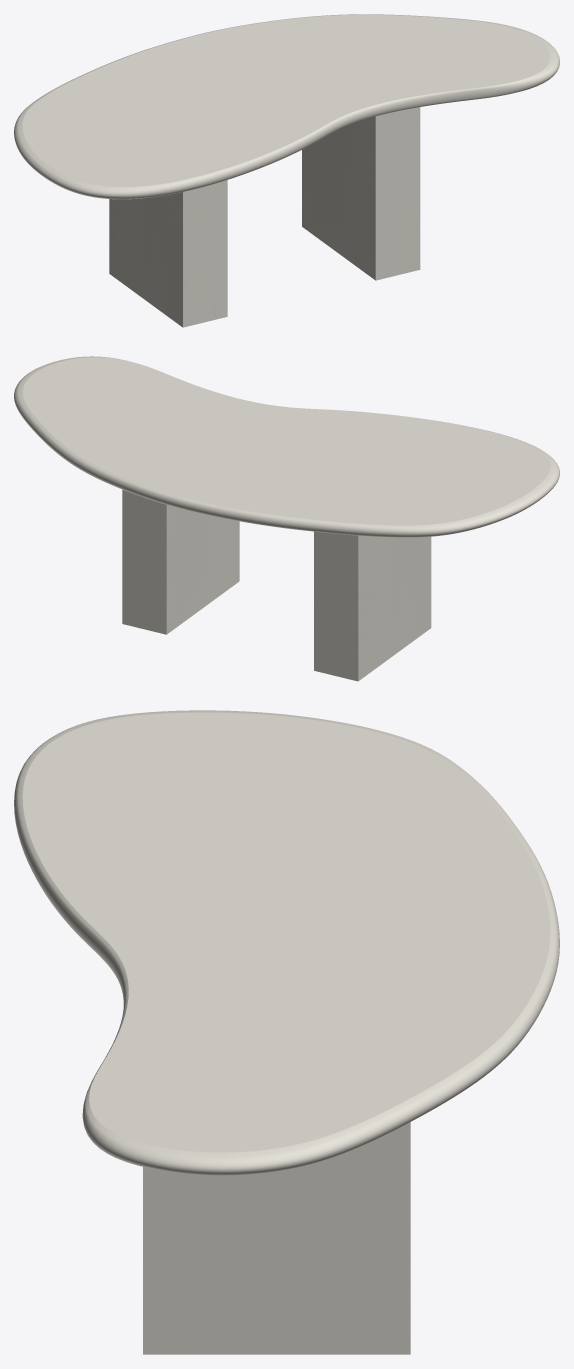
File: pale_leaf1_round_ridge.glb
3 renders of one model, top to bottom at view 1: azimuth 30°, elevation 25°; view 2: azimuth 150°, elevation 25°; view 3: azimuth 270°, elevation 25°, orthographic. The views are drawn at different scales.
Visible parts, largest first — view 1: round_leaf1, ridge; view 2: round_leaf1, ridge; view 3: round_leaf1, ridge.
Boxes of the visible parts, x1=… form: round_leaf1: x1=14, y1=14, x2=559, y2=199; ridge: x1=109, y1=107, x2=420, y2=327; round_leaf1: x1=14, y1=356, x2=559, y2=537; ridge: x1=122, y1=489, x2=431, y2=681; round_leaf1: x1=14, y1=710, x2=559, y2=1175; ridge: x1=143, y1=1122, x2=410, y2=1354.
Bounding box in the file's own units: 7.5 × 2.51 × 3.8.
1 material, 1 textured.
